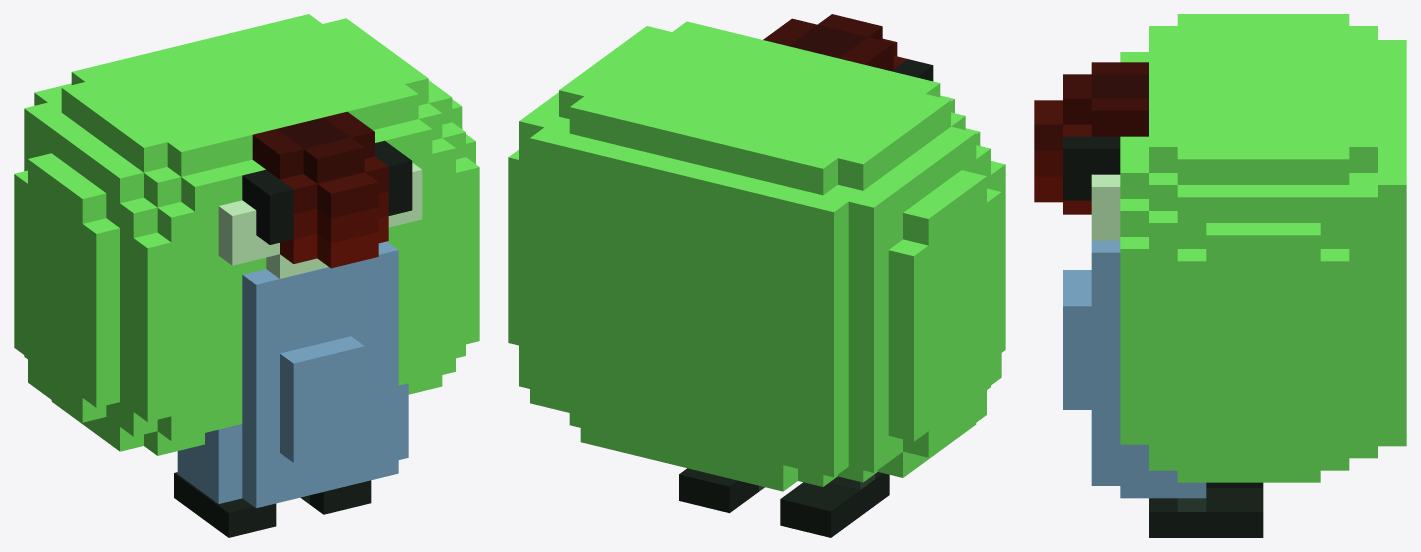
File: scientist01_attack-08.obj
3 views of the same model, side by side, from view 1: azimuth 30°, elevation 25°; view 2: azimuth 150°, elevation 25°; view 3: azimuth 270°, elevation 25° (orthographic). The views are drawn at different scales.
Bounding box in the file's own units: 16 × 16 × 13.
1 material, 1 textured.
